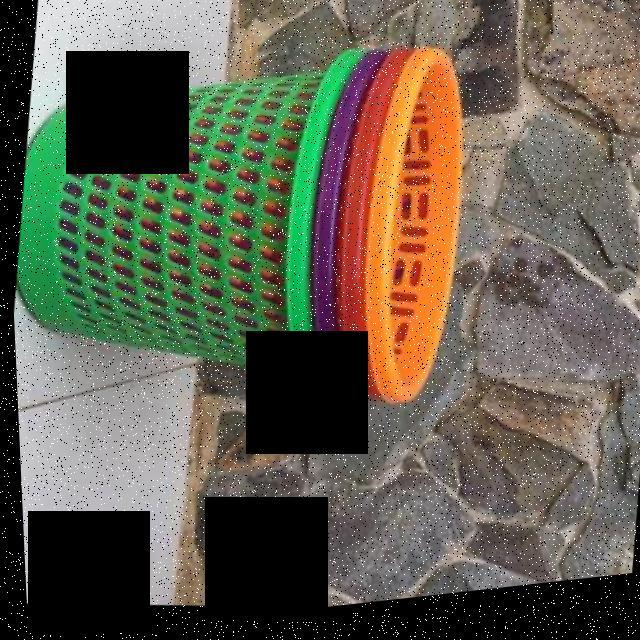bin: (0, 0, 543, 512)
